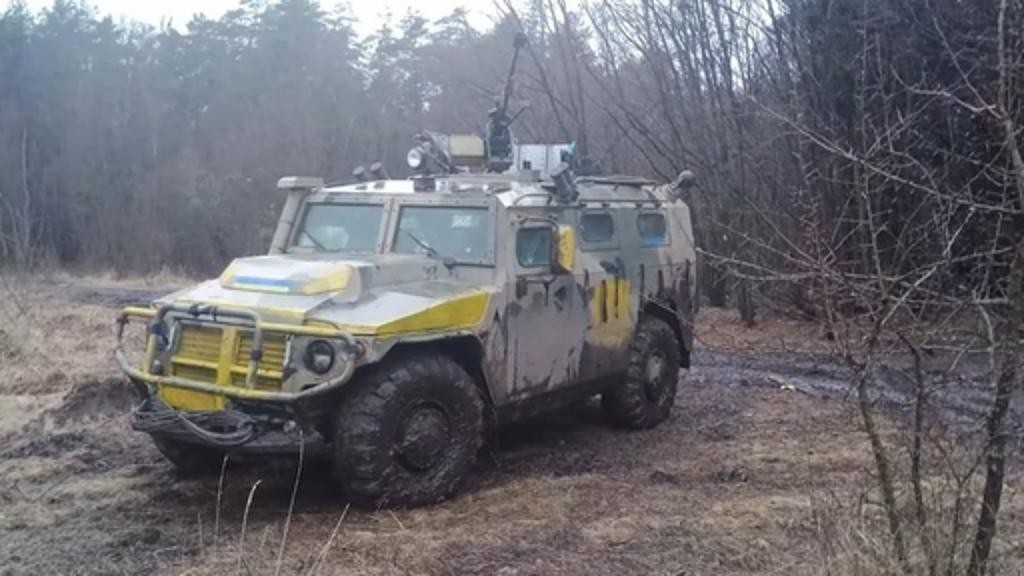CAR: (112, 140, 698, 502)
